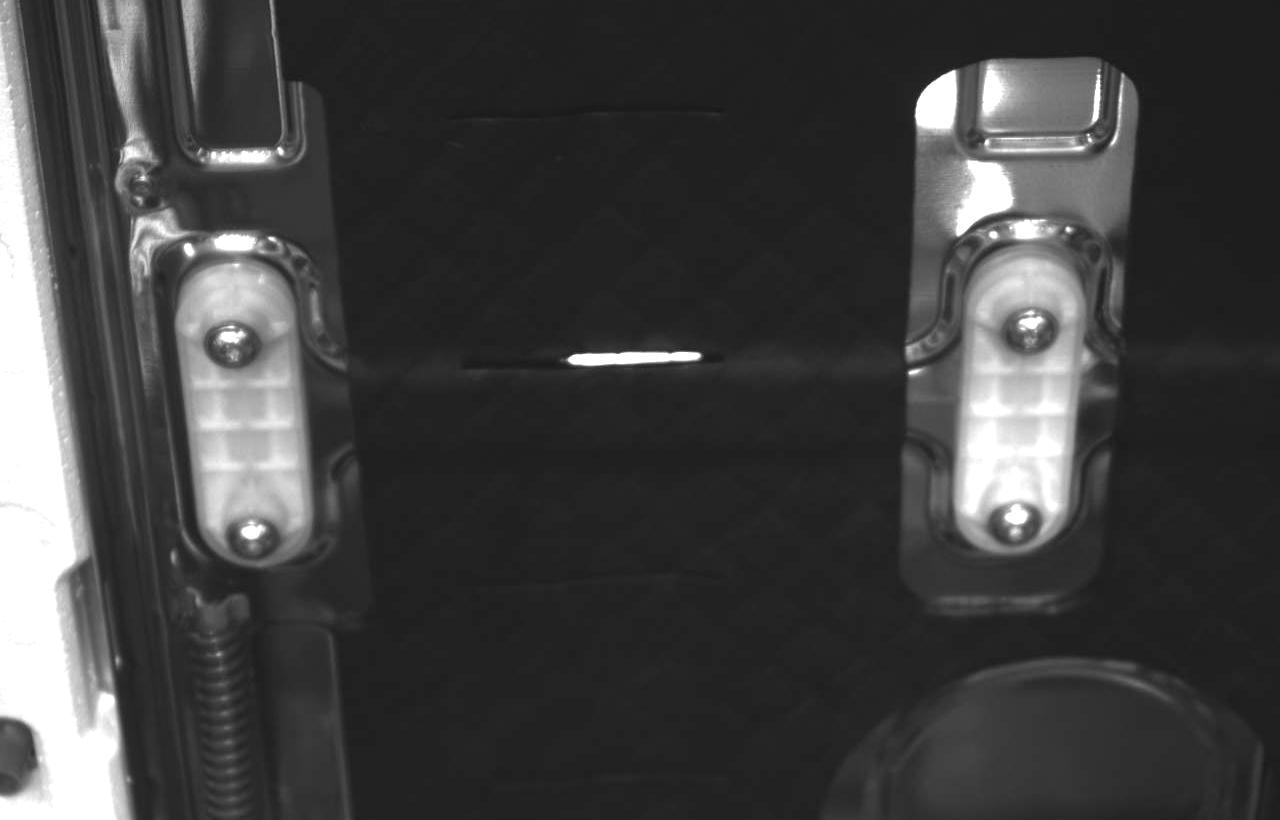vida-ok: (194, 311, 266, 378), (981, 488, 1047, 557), (996, 297, 1063, 364), (220, 504, 286, 562)
